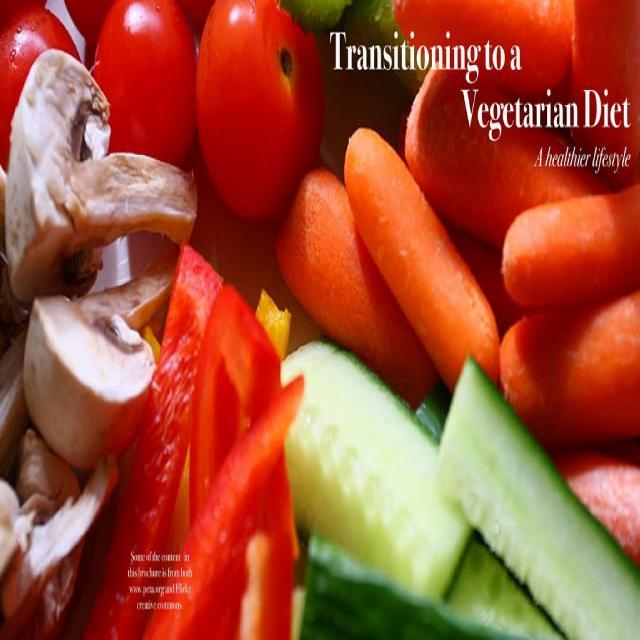Cucumber: (279, 351, 640, 639)
